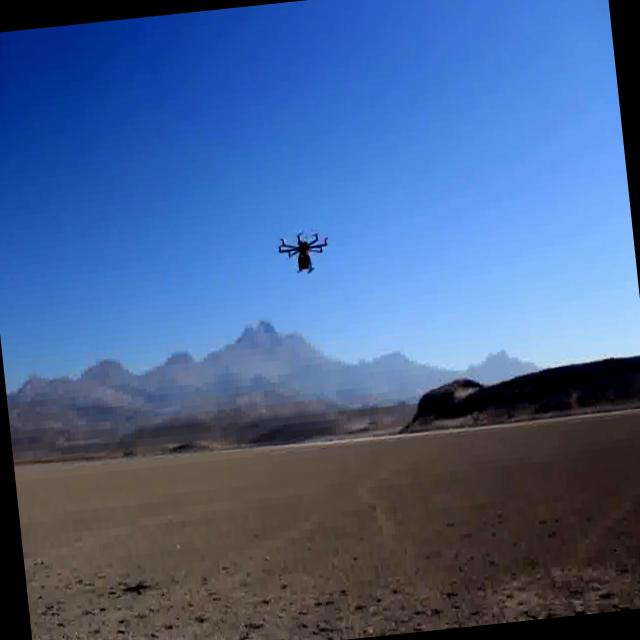drone: (273, 223, 334, 280)
